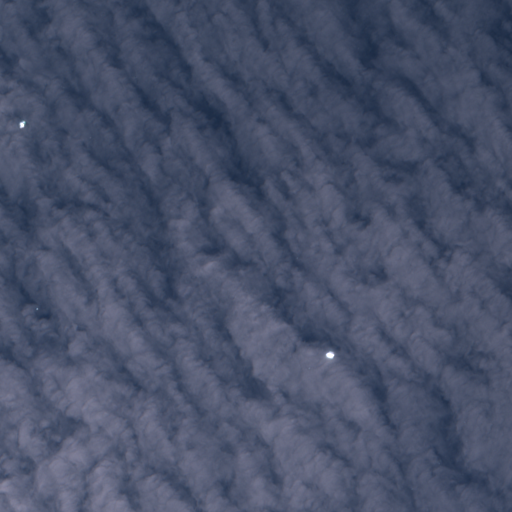Iceberg: (325, 351, 334, 358), (19, 120, 25, 128), (36, 308, 37, 309)
